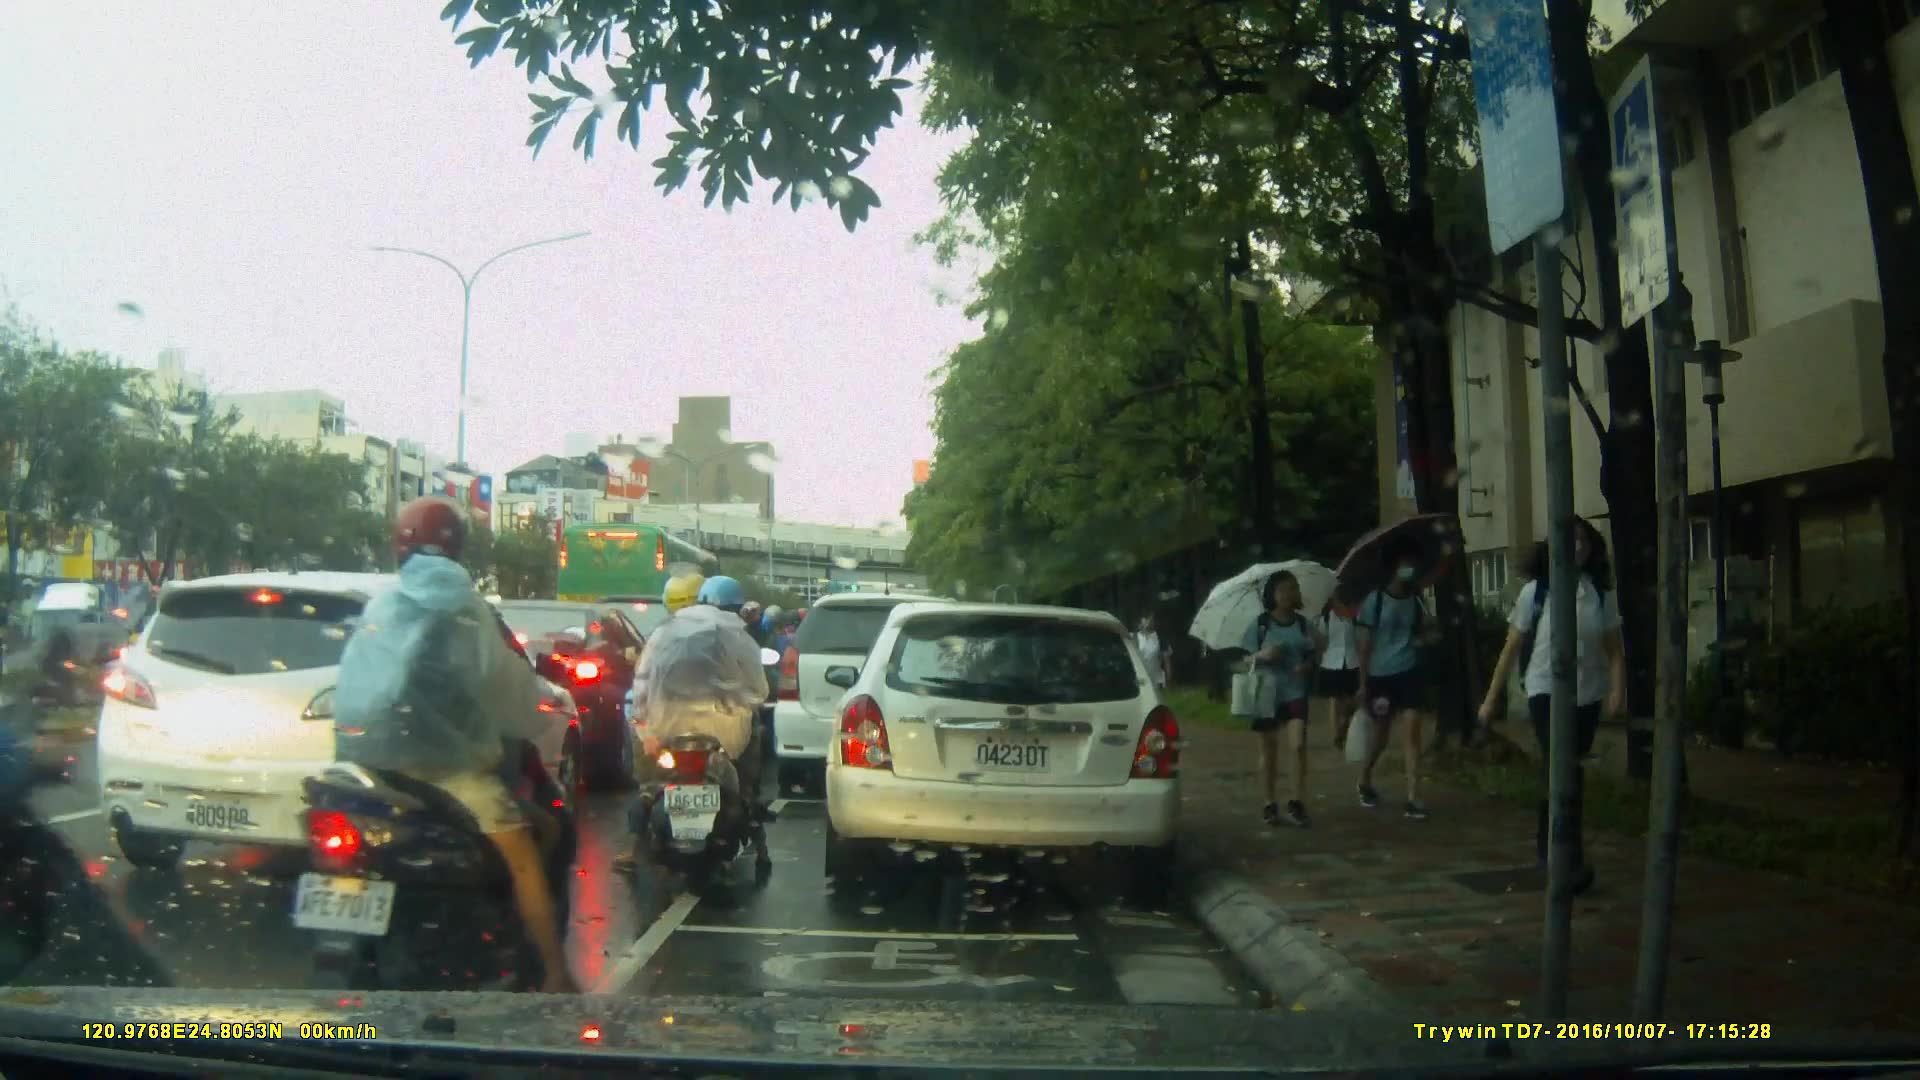pedestrian: (1498, 500, 1625, 894), (1334, 540, 1452, 829), (1233, 566, 1333, 838), (1129, 600, 1173, 749)
rider: (284, 494, 606, 1001), (609, 573, 778, 890), (659, 587, 762, 813)
vehicle: (94, 569, 589, 883), (822, 604, 1186, 883), (774, 595, 995, 802), (555, 520, 740, 666), (20, 576, 199, 697), (14, 621, 221, 717)
